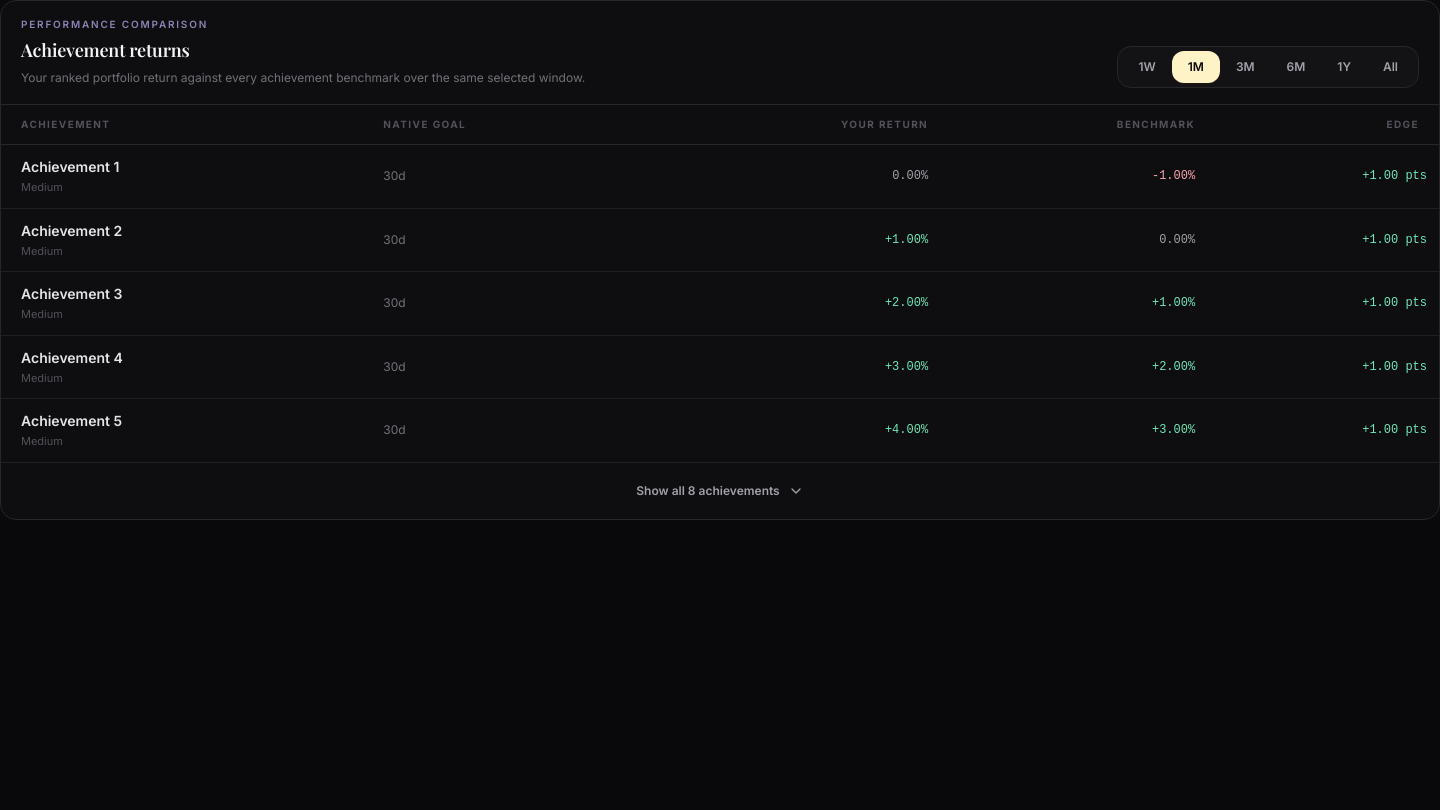
Test case: AchievementReturnsTable › shows five rows by default and toggles the complete return list
Expected: the text "Achievement 5" is shown, [21,412,122,429]
Expected: the text "Achievement 6" is not shown
Step 1. Click the button "Show all 8 achievements" → (720, 490), box [620,474,820,506]
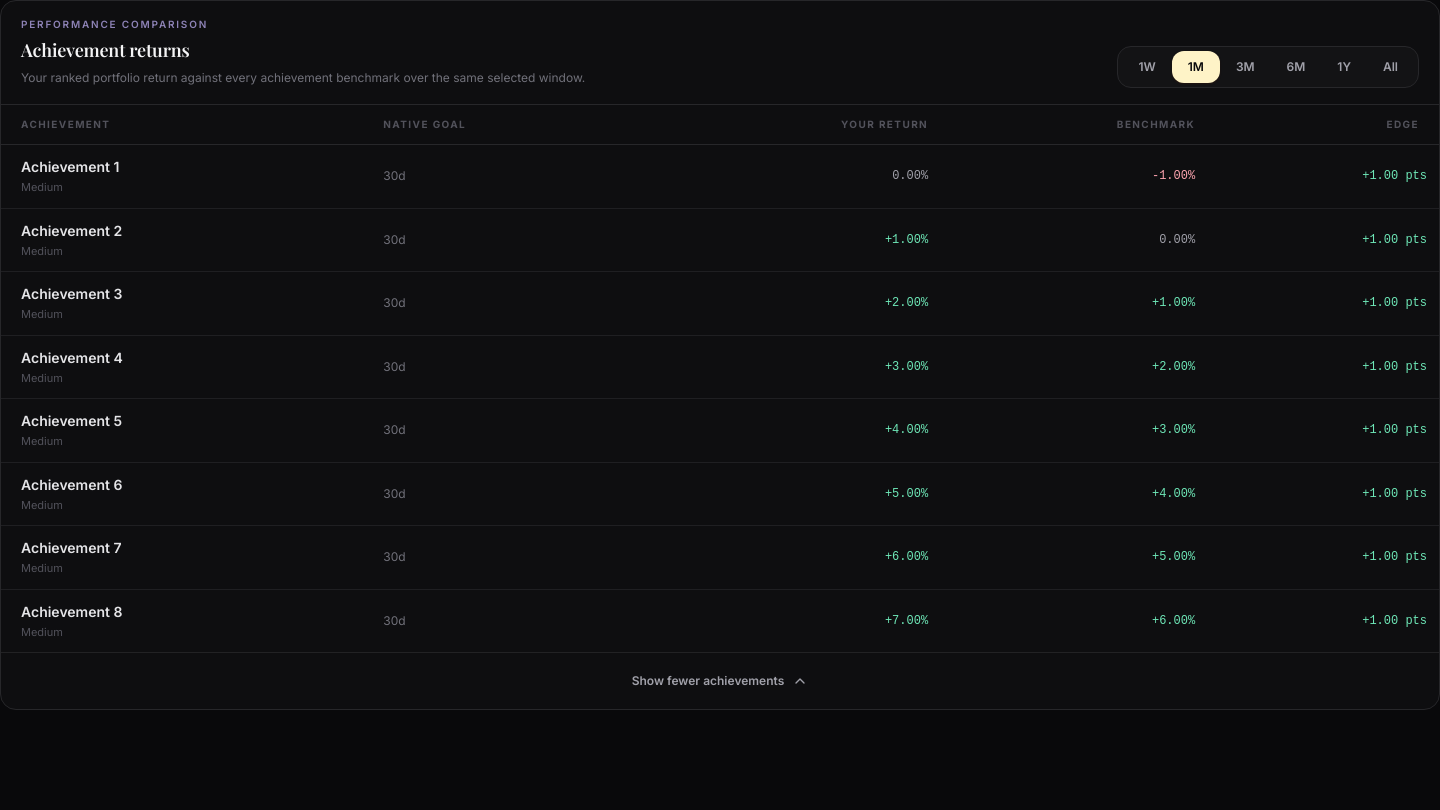
Now the text "Achievement 8" is shown, box [21,602,122,620]
Now the button "Show fewer achievements" is expanded
Step 2. Click the button "Show fewer achievements" → (720, 681), box [616,665,824,697]
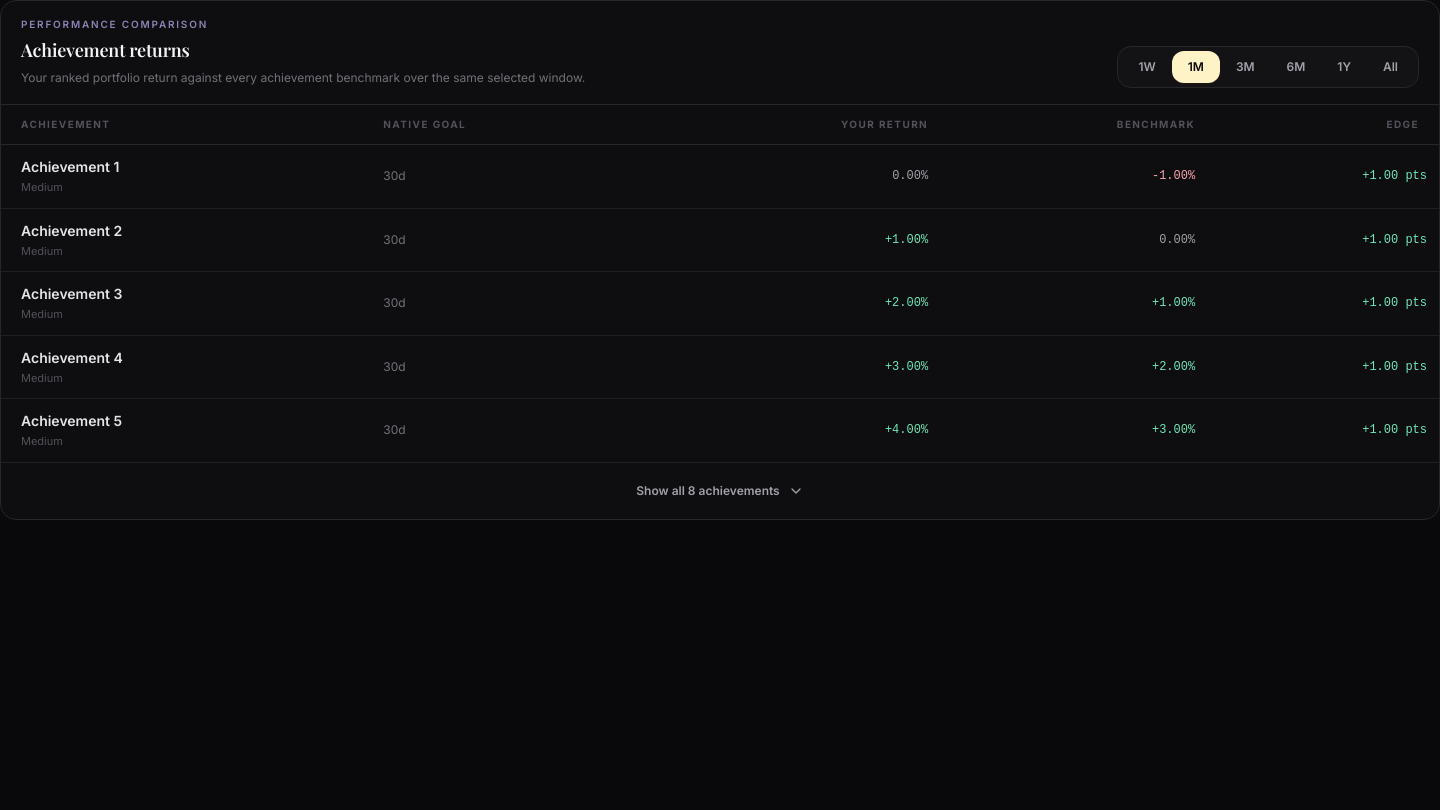
Now the text "Achievement 6" is gone
